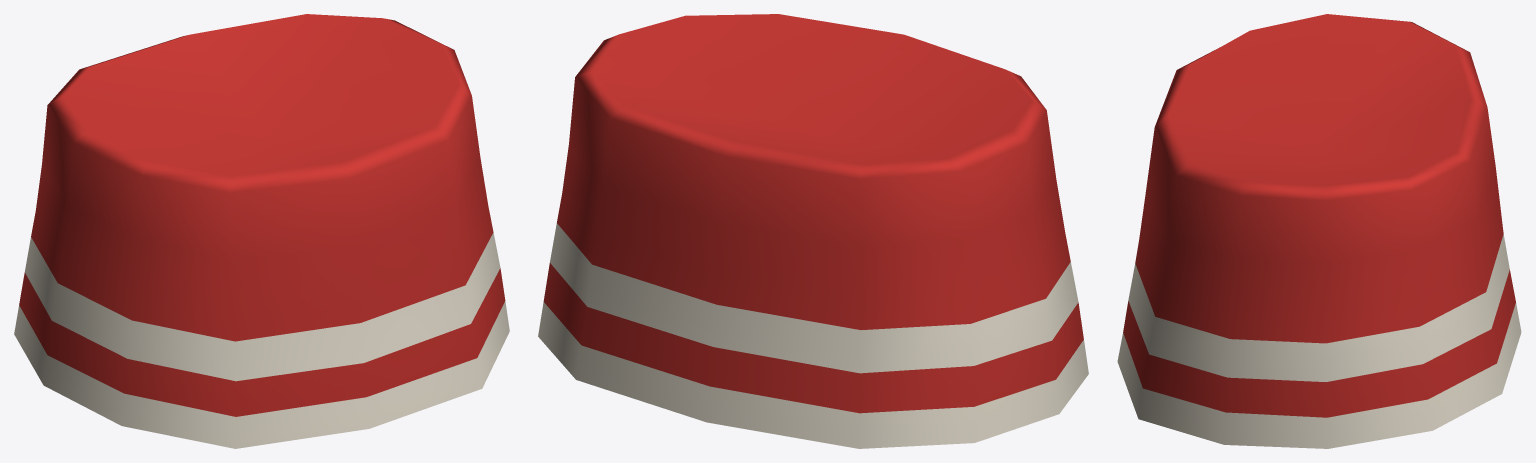
File: Bottom_32.fbx
3 renders of one model, left to right at view 1: azimuth 30°, elevation 25°; view 2: azimuth 150°, elevation 25°; view 3: azimuth 270°, elevation 25°, orthographic. The views are drawn at different scales.
Visible parts, largest first — view 1: Bottom_32; view 2: Bottom_32; view 3: Bottom_32.
Boxes of the visible parts, left/top/right/bottom form: Bottom_32: left=14, top=14, right=509, bottom=448; Bottom_32: left=538, top=14, right=1088, bottom=448; Bottom_32: left=1117, top=14, right=1521, bottom=448.
Size of the model in its own units: 44.44 by 25.55 by 35.63.
